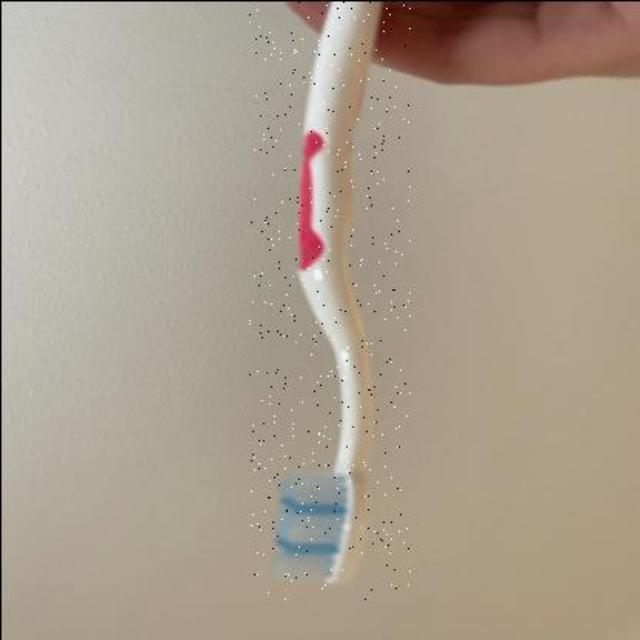toothbrush: (247, 0, 408, 598)
